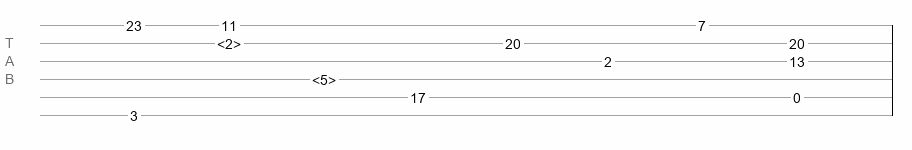0: (793, 90, 801, 100)
11: (221, 18, 237, 28)
13: (789, 54, 805, 64)
17: (410, 90, 426, 100)
2: (604, 54, 612, 64)
20: (505, 36, 521, 46), (789, 36, 805, 46)
23: (126, 18, 142, 28)
3: (130, 108, 138, 118)
7: (698, 18, 706, 28)
harmonic: (217, 36, 241, 46), (312, 72, 336, 82)
